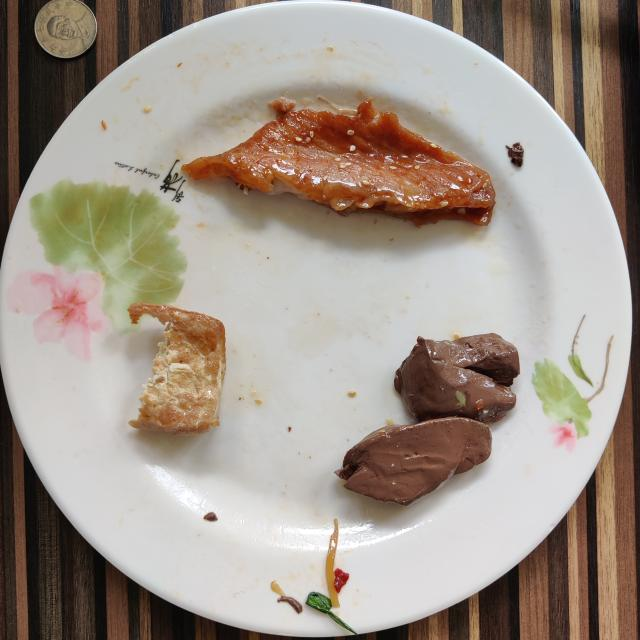Kabayaki sea bream fillet: (182, 98, 495, 226)
coin: (35, 0, 98, 59)
pig blood curd: (336, 334, 520, 505)
